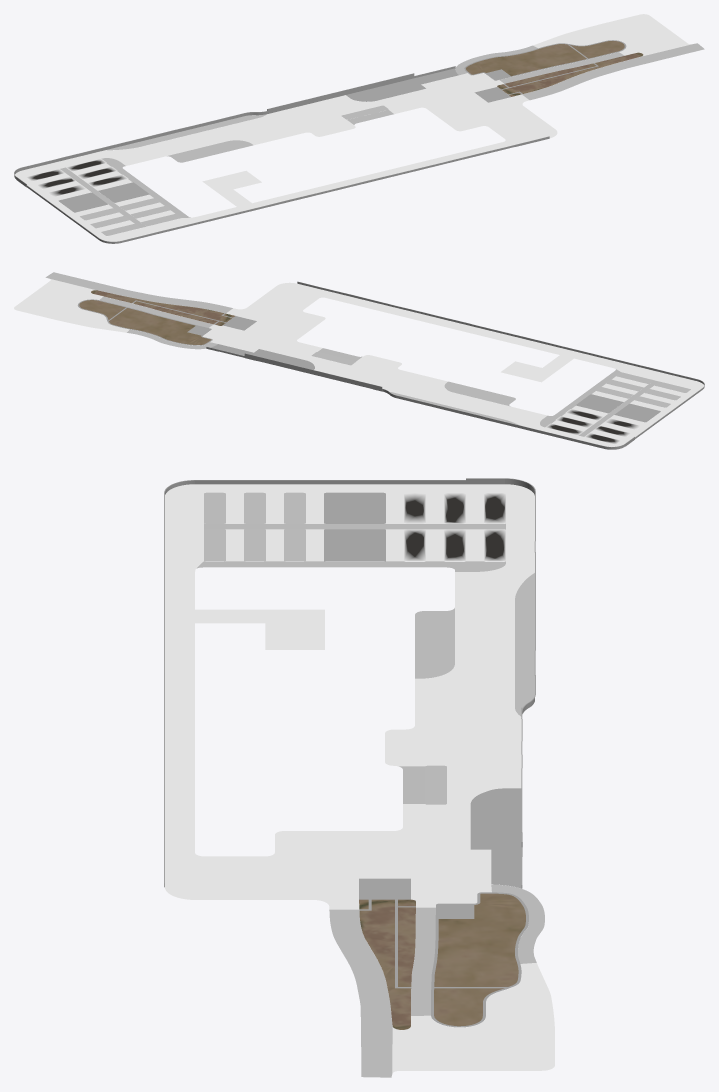
File: s_steel_factory_ground_base.dae
3 renders of one model, top to bottom at view 1: azimuth 30°, elevation 25°; view 2: azimuth 150°, elevation 25°; view 3: azimuth 270°, elevation 25°, orthographic. The views are drawn at different scales.
Visible parts, largest first — view 1: s_factory_ground_base_a80; view 2: s_factory_ground_base_a80; view 3: s_factory_ground_base_a80.
Boxes of the visible parts, x1,y1,x2,y2 form: s_factory_ground_base_a80: (14,14,704,243); s_factory_ground_base_a80: (14,272,704,449); s_factory_ground_base_a80: (164,478,554,1077).
Bounding box in the file's own units: 702 × 195 × 5.11.
